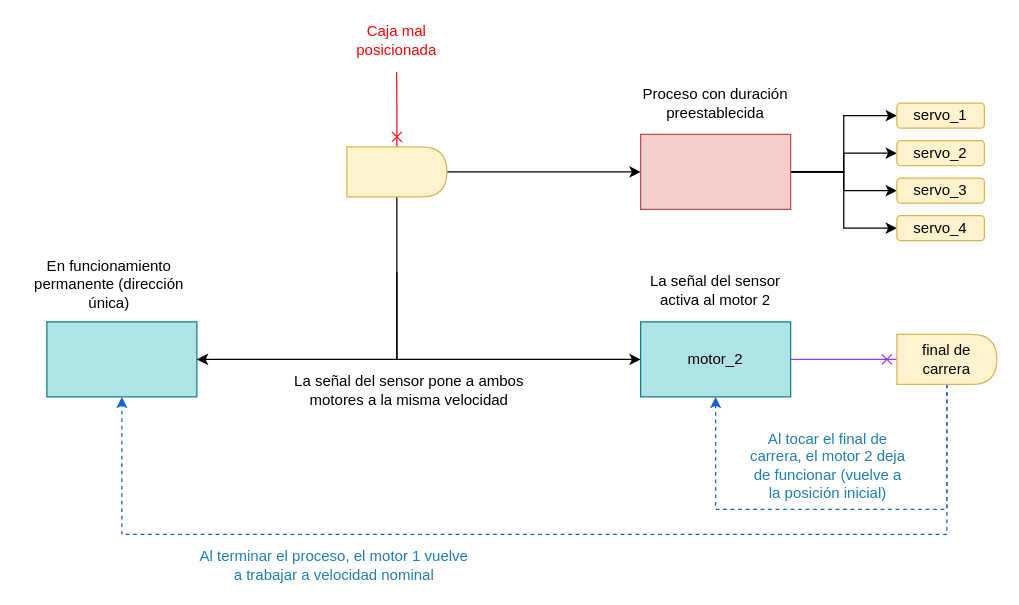
Image size: 1019x605. Some labels were removed from this diagram. The box of each missing label's shape, as (x1, y1, x2, y2) in pixels:
motor_1: (46, 321, 197, 397)
Proceso para acomodar la caja: (639, 133, 791, 209)
sensor: (346, 146, 447, 197)
